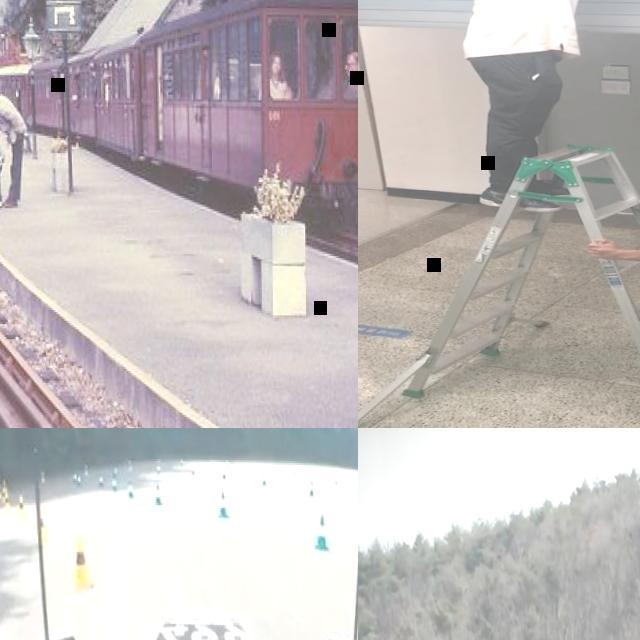vest: (461, 0, 587, 58)
